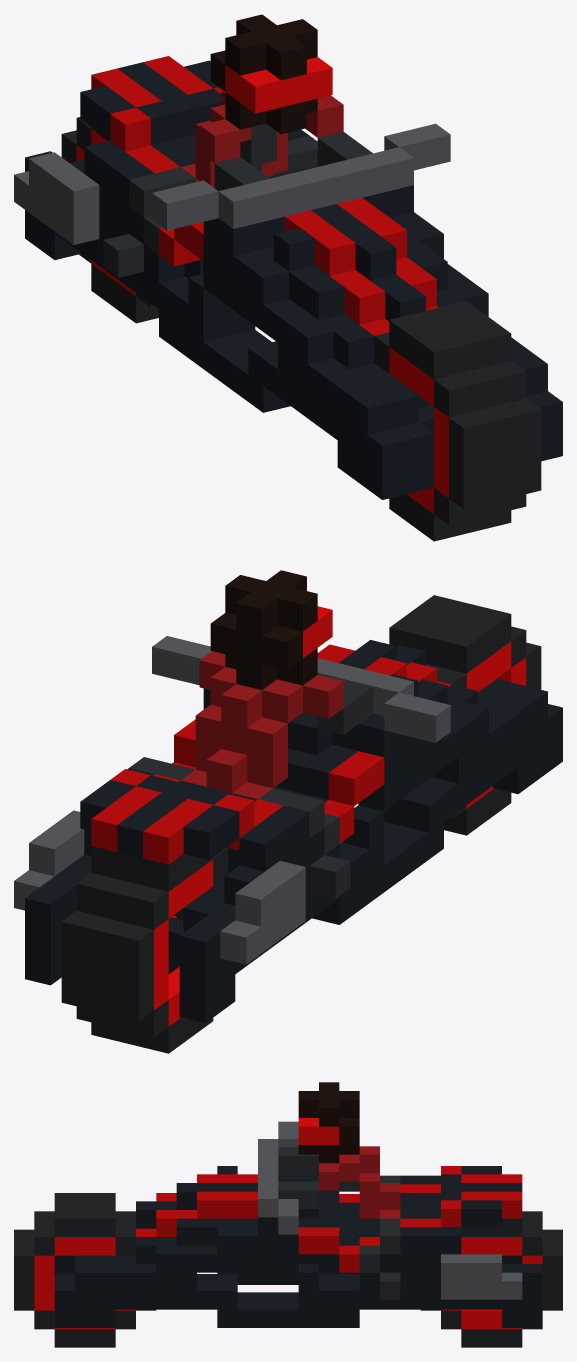
File: Rider2.obj
3 renders of one model, top to bottom at view 1: azimuth 30°, elevation 25°; view 2: azimuth 150°, elevation 25°; view 3: azimuth 270°, elevation 25°, orthographic. The views are drawn at different scales.
Bounding box in the file's own units: 1.1 × 1.3 × 2.7.
Materials: 1 (1 with a texture image).
